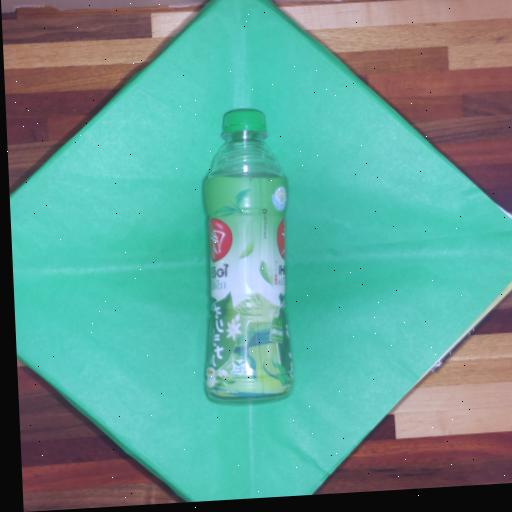bottle: (204, 109, 292, 399)
